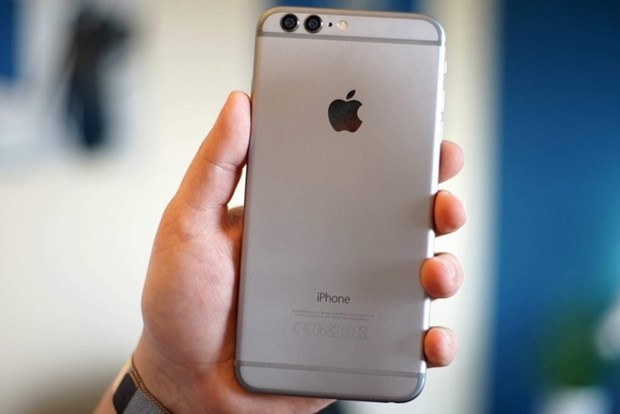apple: (316, 82, 375, 143)
